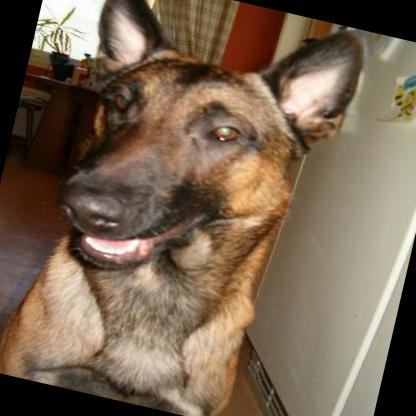malinois: (0, 0, 374, 416)
